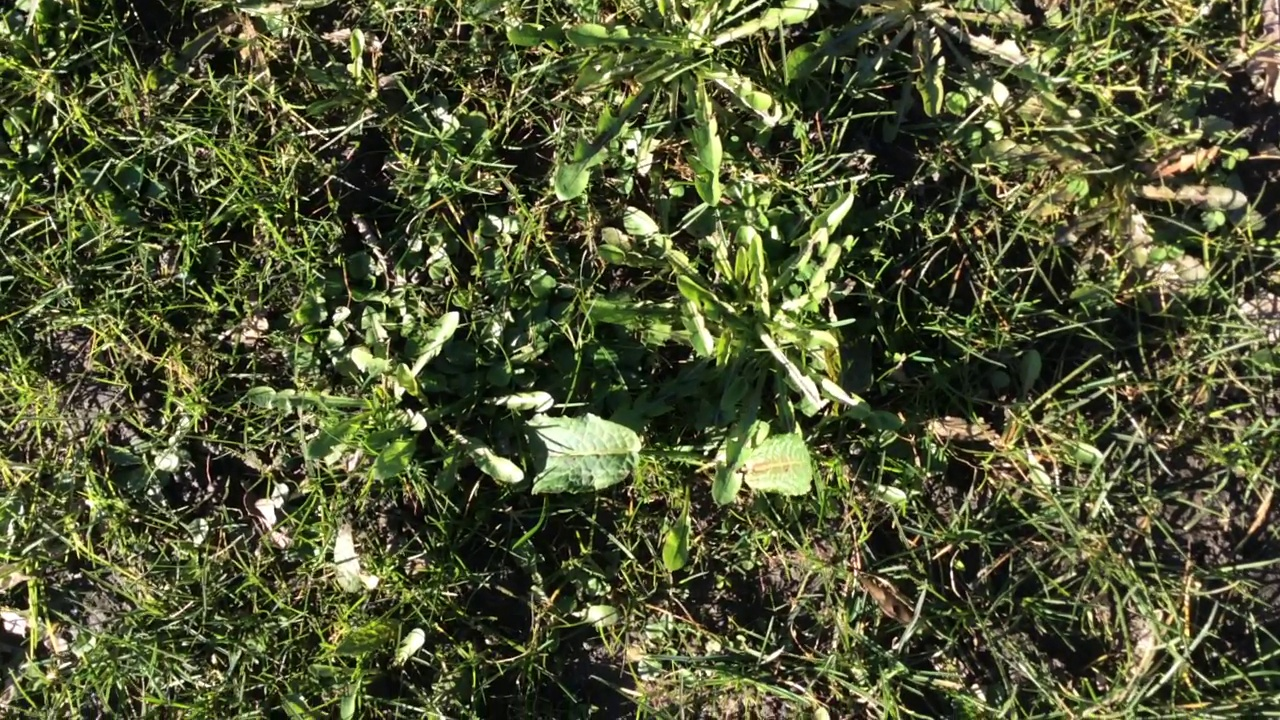rumex: (485, 414, 640, 495), (738, 436, 813, 495)
